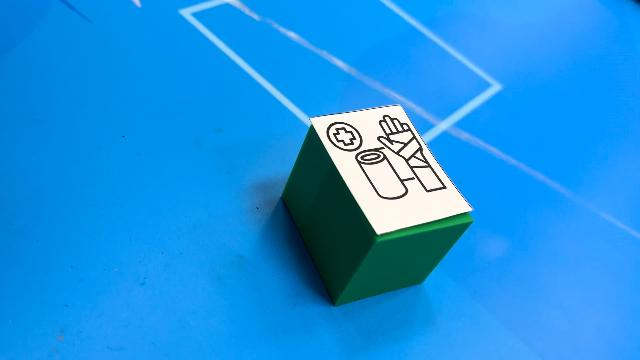bandage: (280, 103, 474, 306)
